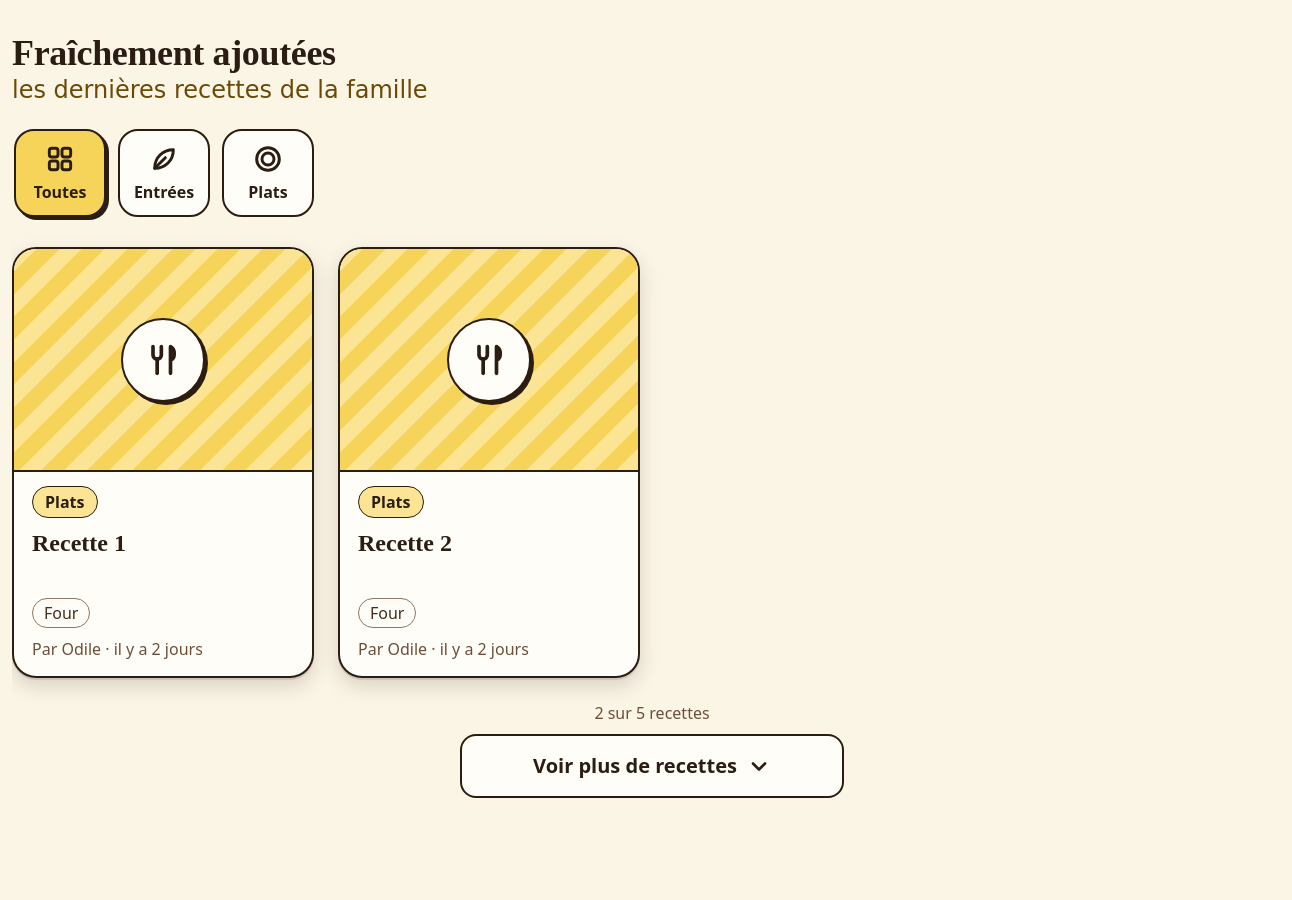
it: HomeScreen › « Voir plus de recettes » › adds the next recipes under the others, announces them, and ends with a sentence
Click the button "Voir plus de recettes": (652, 766) left=460, top=734, right=844, bottom=798
(page scrolled)
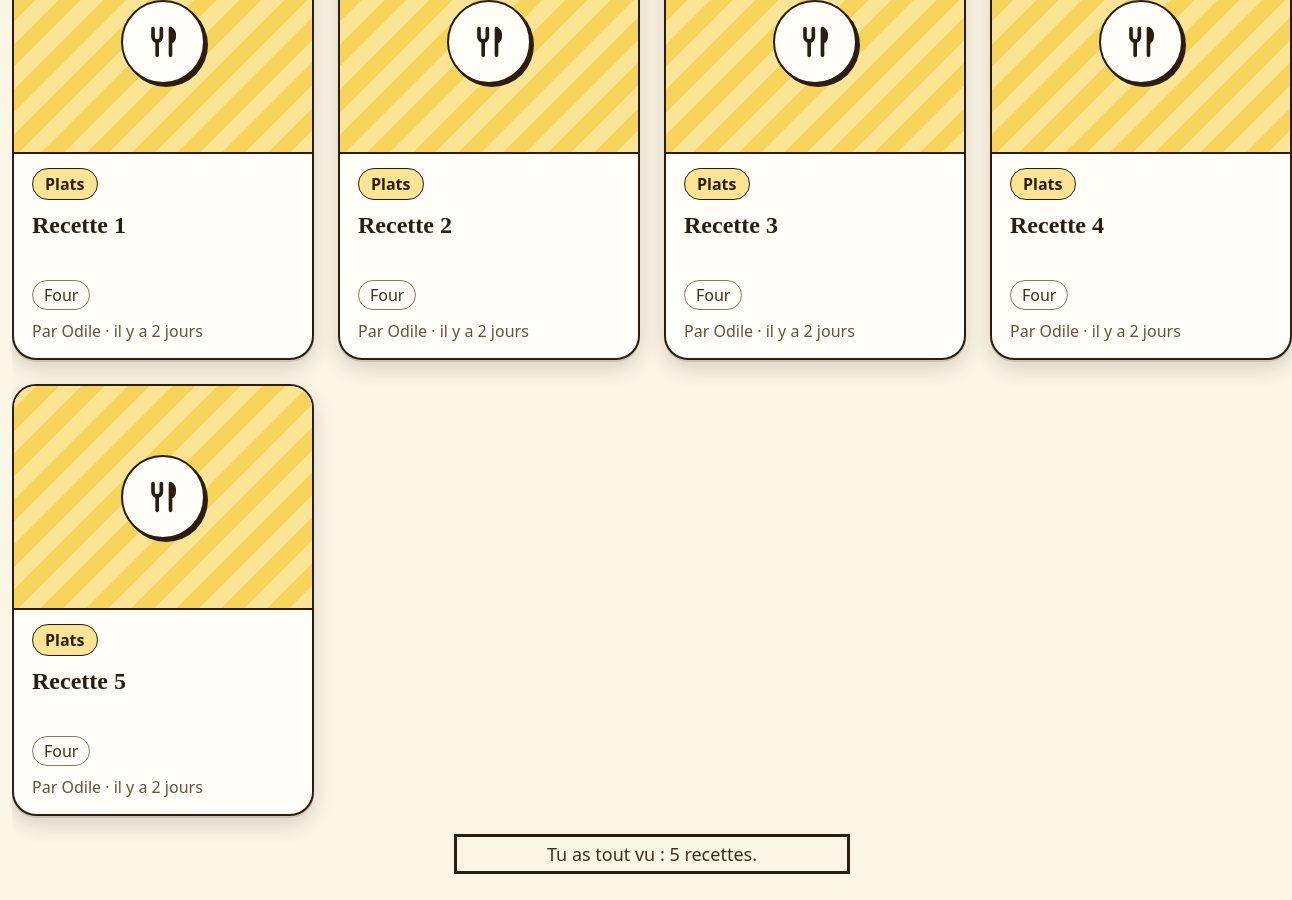
Expected: the button "Voir plus de recettes" is gone
